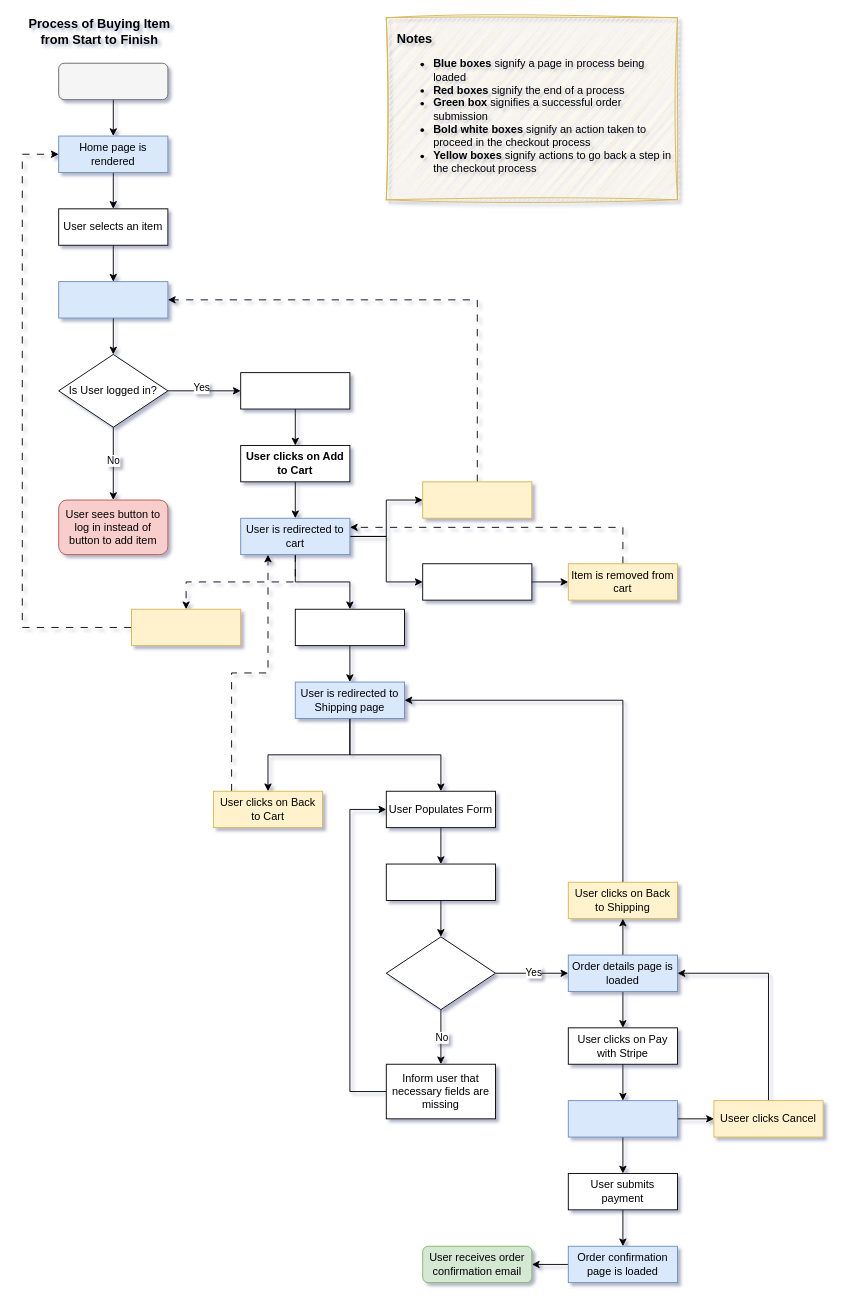
Some shapes in this 844 by 1304 pixel diagram are drawn without their labels. The shapes that lost their labels are listed below. From the top down, each one's centre as x and y in pixels, then its label:
(113,81): User navigates to shop home webpage
(113,299): User is directed to selected item page
(295,390): User selects item quantity
(477,499): User clicks on item
(477,581): User clicks remove link
(186,627): User clicks Continue Shopping
(349,627): User clicks Proceed to Shipping
(440,881): User clicks Proceed to Payment
(440,973): Is form fully populated?
(622,1118): Stripe Payment page is laoded
